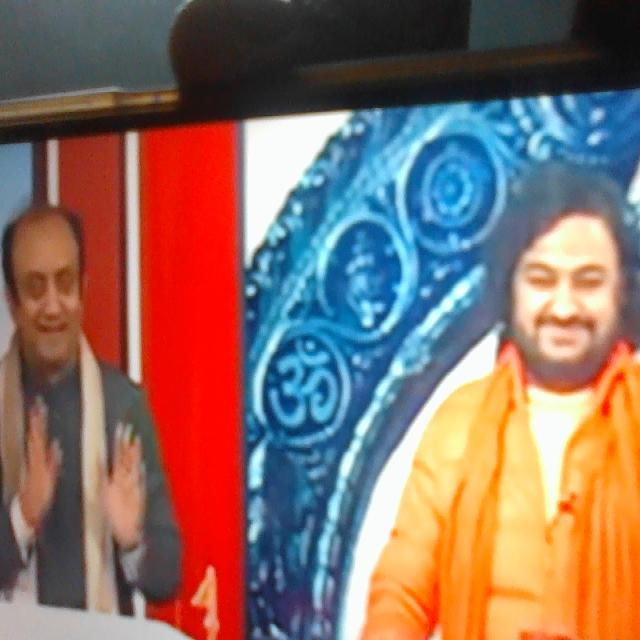fake: (508, 163, 628, 389)
